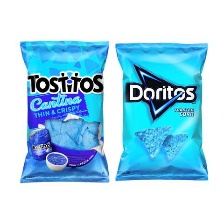snack: (110, 36, 213, 184), (13, 36, 113, 187)
